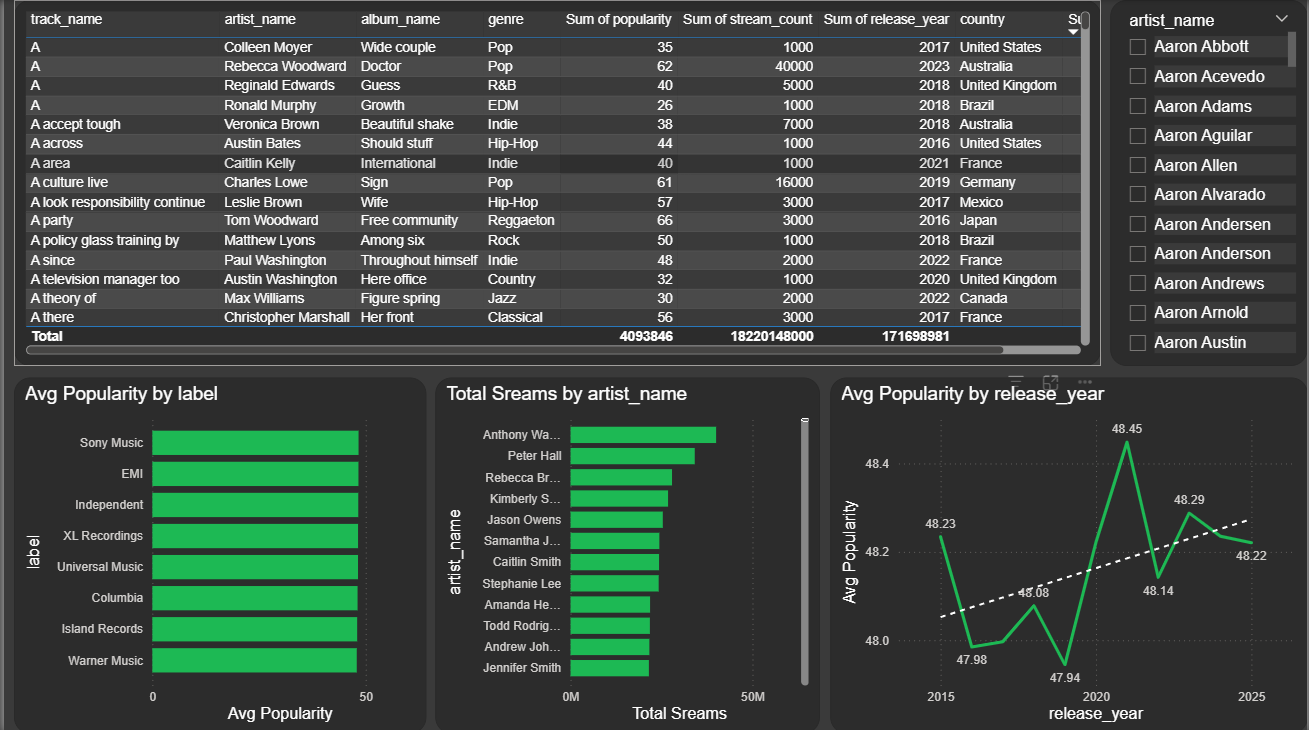

What the dashboard file says about the page in this screenshot:
{"tool":"powerbi","page":{"name":"artist and label insights","canvas":[1280,720],"ordinal":1},"visuals":[{"type":"clusteredBarChart","fields":{"Category":["spotify_2015_2025_85k.artist_name"],"Y":["Table.Total Sreams"]},"box":[423.3,370.6,377.9,349.7],"z":0},{"type":"clusteredBarChart","fields":{"Category":["spotify_2015_2025_85k.label"],"Y":["Table.Avg Popularity"]},"box":[9.8,370.6,404.9,349.7],"z":1000},{"type":"tableEx","fields":{"Values":["spotify_2015_2025_85k.track_name","spotify_2015_2025_85k.artist_name","spotify_2015_2025_85k.album_name","spotify_2015_2025_85k.genre","Sum(spotify_2015_2025_85k.popularity)","Sum(spotify_2015_2025_85k.stream_count)","Sum(spotify_2015_2025_85k.release_year)","spotify_2015_2025_85k.country","Sum(spotify_2015_2025_85k.explicit)"]},"box":[9.8,0,1067.5,359.5],"z":2000},{"type":"lineChart","fields":{"Category":["spotify_2015_2025_85k.release_year"],"Y":["Table.Avg Popularity"]},"box":[811,370.6,468.7,349.7],"z":3000},{"type":"slicer","fields":{"Values":["spotify_2015_2025_85k.artist_name"]},"box":[1086.4,0,193.3,359.2],"z":4000}]}

Visuals, with their boxes in screenshot pixels (x1, y1, x2, y2), scaled from the page's 1280x720 canvas onto the 1309x730 screenshot:
clusteredBarChart - spotify_2015_2025_85k.artist_name x Table.Total Sreams: <bbox>433, 376, 819, 729</bbox>
clusteredBarChart - spotify_2015_2025_85k.label x Table.Avg Popularity: <bbox>10, 376, 424, 729</bbox>
tableEx - spotify_2015_2025_85k.track_name x spotify_2015_2025_85k.artist_name: <bbox>10, 0, 1102, 364</bbox>
lineChart - spotify_2015_2025_85k.release_year x Table.Avg Popularity: <bbox>829, 376, 1308, 729</bbox>
slicer - spotify_2015_2025_85k.artist_name: <bbox>1111, 0, 1308, 364</bbox>
